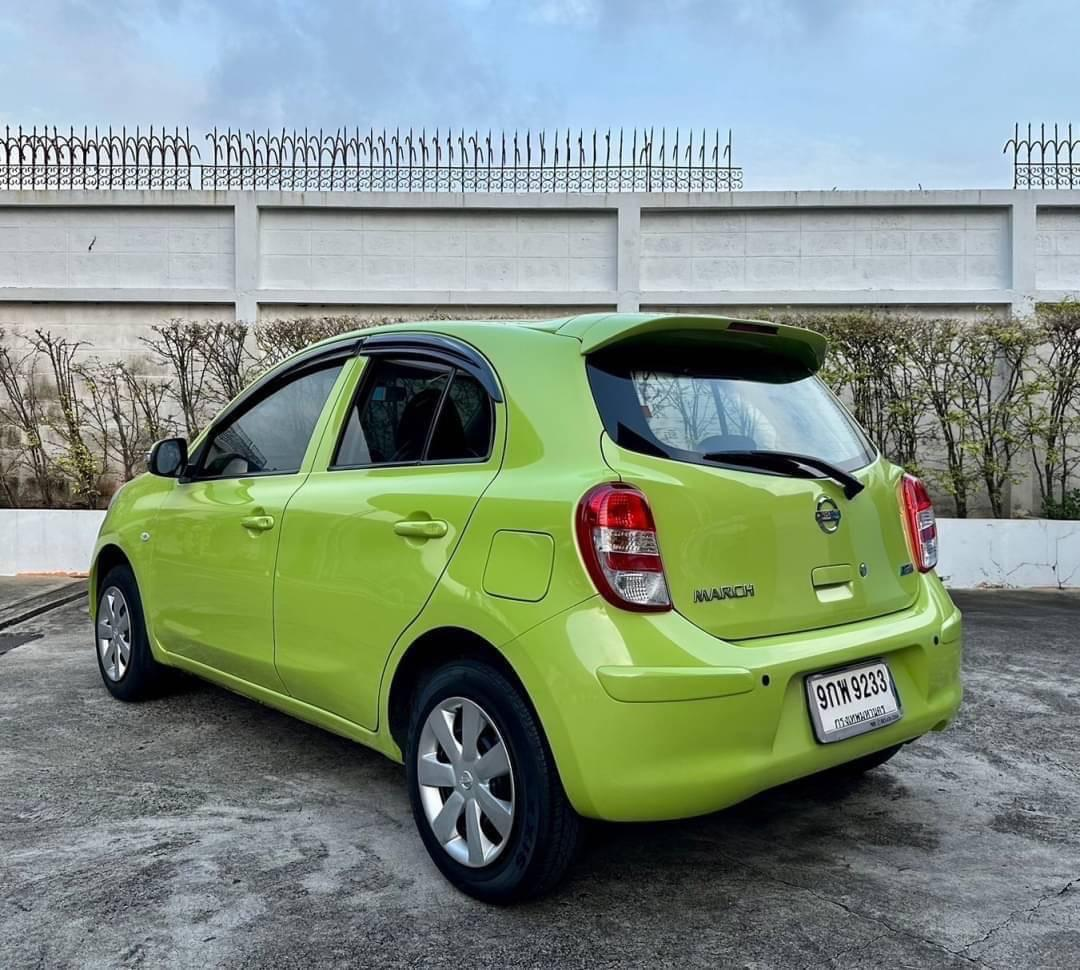license-plate: (801, 654, 907, 751)
